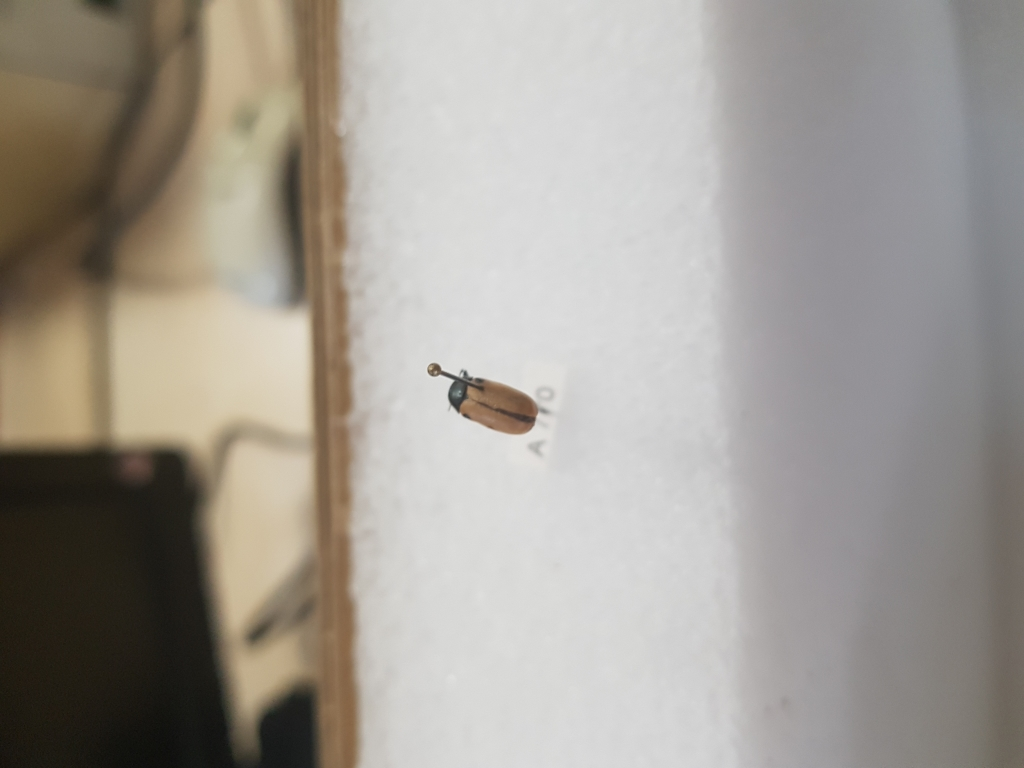Labidostomis_propinqua: (436, 365, 542, 440)
